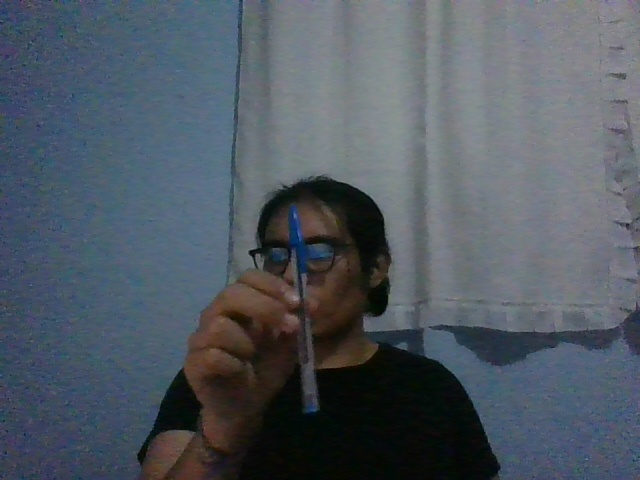pluma: (287, 204, 321, 415)
